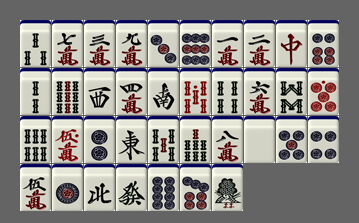0m: (52, 116, 83, 163)
0p: (308, 68, 339, 115)
0s: (180, 68, 211, 115)
1m: (212, 20, 243, 67)
1p: (52, 164, 83, 211)
1s: (212, 164, 243, 211)
1z: (116, 116, 147, 163)
2m: (244, 20, 275, 67)
2p: (84, 116, 115, 163)
2s: (20, 68, 51, 115)
2z: (148, 68, 179, 115)
3m: (84, 20, 115, 67)
3p: (148, 20, 179, 67)
3s: (20, 20, 51, 67)
3z: (84, 68, 115, 115)
4m: (116, 68, 147, 115)
4p: (308, 116, 339, 163)
4s: (212, 68, 243, 115)
4z: (84, 164, 115, 211)
5m: (20, 164, 51, 211)
5p: (276, 116, 307, 163)
5s: (148, 116, 179, 163)
5z: (244, 116, 275, 163)
6m: (244, 68, 275, 115)
6p: (308, 20, 339, 67)
6s: (20, 116, 51, 163)
6z: (116, 164, 147, 211)
7m: (52, 20, 83, 67)
7p: (180, 164, 211, 211)
7s: (180, 116, 211, 163)
7z: (276, 20, 307, 67)
8m: (212, 116, 243, 163)
8p: (148, 164, 179, 211)
8s: (276, 68, 307, 115)
9m: (116, 20, 147, 67)
9p: (180, 20, 211, 67)
9s: (52, 68, 83, 115)
